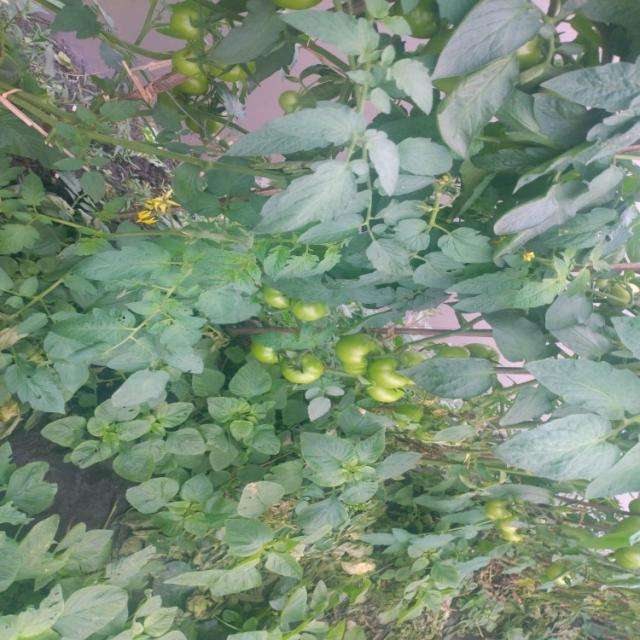tomato: (276, 353, 329, 395), (332, 328, 373, 375), (372, 347, 413, 393), (167, 7, 212, 41), (481, 499, 519, 535), (406, 5, 440, 41), (169, 50, 203, 83), (368, 379, 400, 409), (291, 302, 325, 321), (499, 521, 526, 542)
